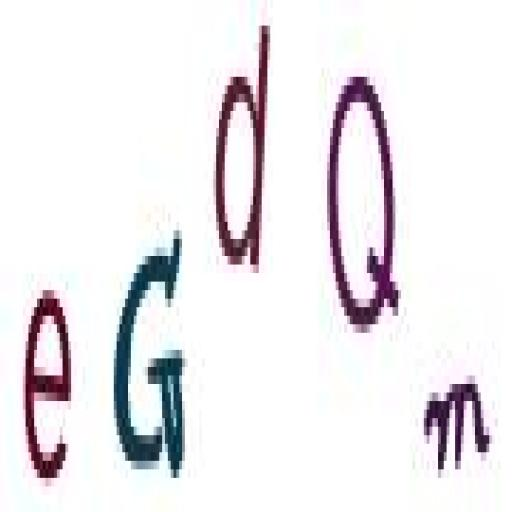G: (104, 217, 196, 496)
Q: (320, 64, 410, 344)
d: (209, 12, 277, 296)
e: (20, 272, 76, 494)
m: (424, 356, 497, 486)
